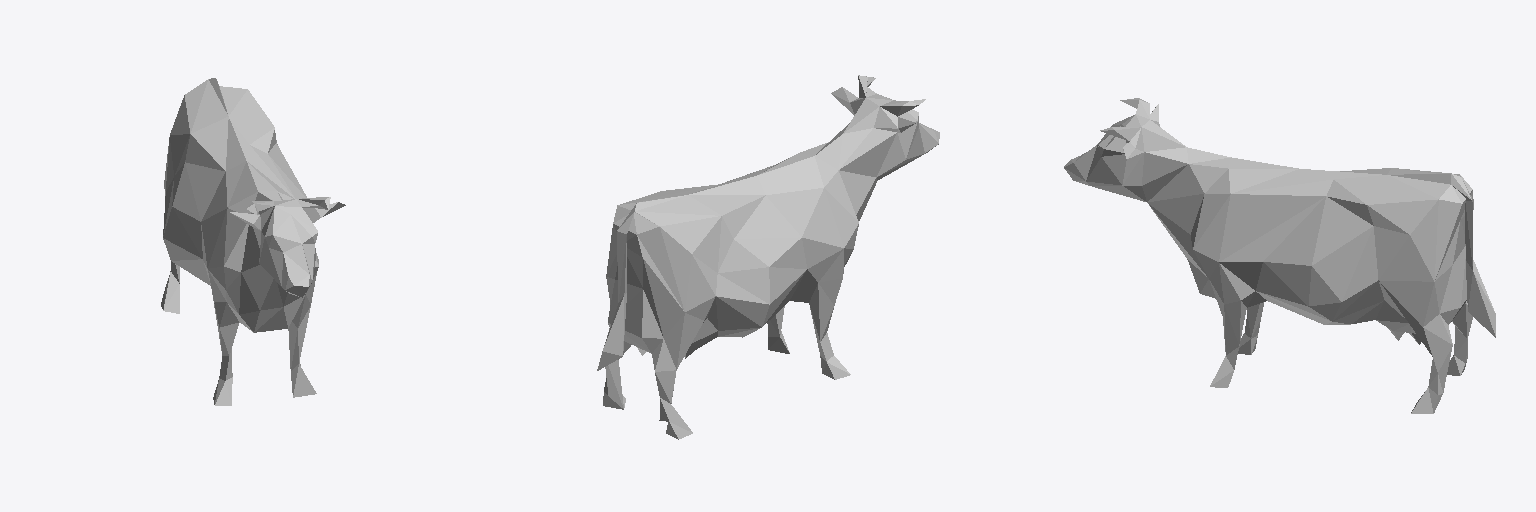
The model's file is simplify_cow.obj.
The picture shows the model from 3 angles: view 1: azimuth 30°, elevation 25°; view 2: azimuth 150°, elevation 25°; view 3: azimuth 270°, elevation 25°; orthographic projection.
Size of the model in its own units: 11.25 by 14.9 by 23.96.